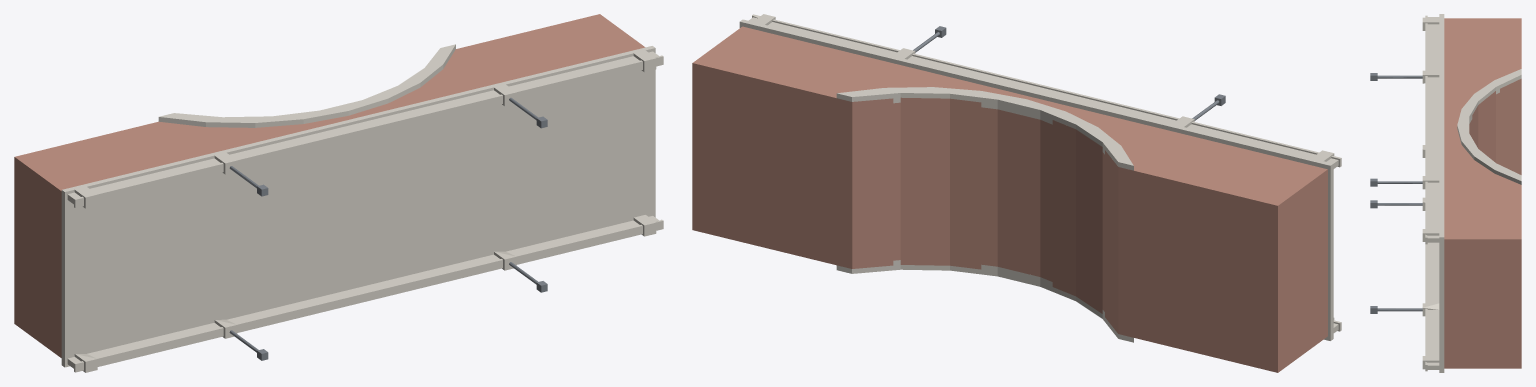
File: r-124-alster-brick-arch-bridge.glb
The picture shows the model from 3 angles, left to right: view 1: azimuth 30°, elevation 25°; view 2: azimuth 150°, elevation 25°; view 3: azimuth 270°, elevation 25°; orthographic projection. The views are drawn at different scales.
Visible parts, largest first — view 1: stone-trim, brick-body, lamps; view 2: brick-body, stone-trim; view 3: brick-body, stone-trim, lamps.
Boxes of the visible parts, x1,y1,x2,y2 form: stone-trim: [61, 44, 663, 372]; brick-body: [14, 14, 645, 357]; lamps: [229, 97, 547, 360]; brick-body: [692, 26, 1327, 372]; stone-trim: [739, 14, 1341, 342]; brick-body: [1444, 18, 1521, 368]; stone-trim: [1422, 14, 1521, 372]; lamps: [1370, 73, 1422, 313].
Bounding box in the file's own units: 44400 × 12701 × 12699.
